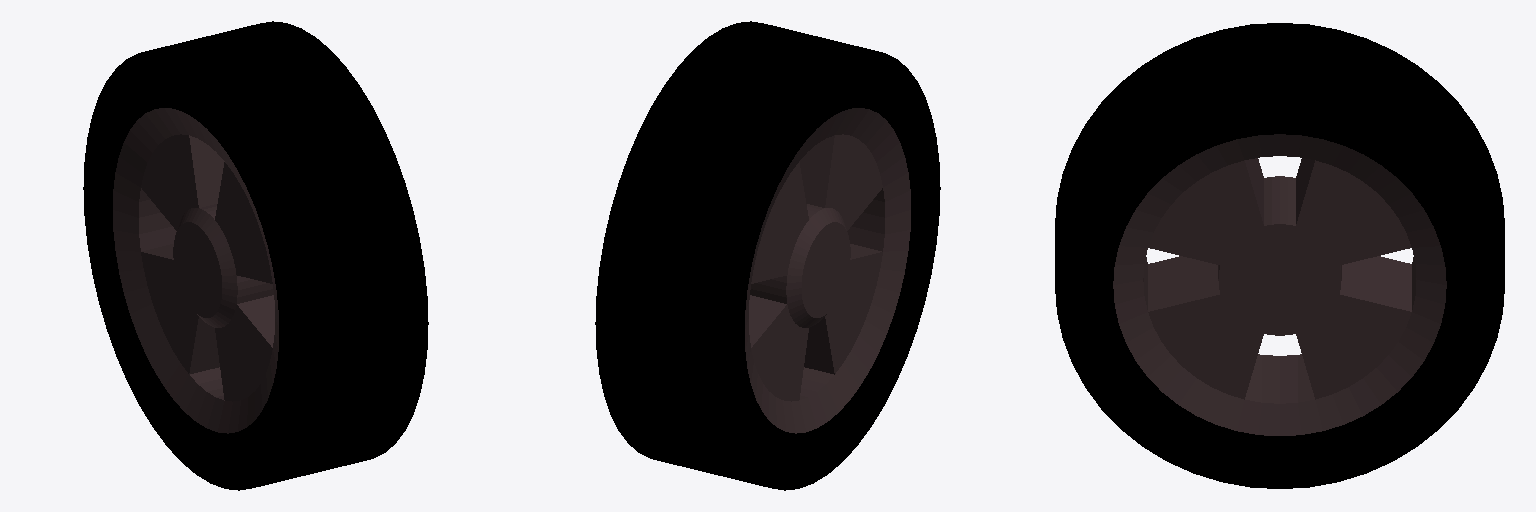
File: cricket_mk2_wheel_right.obj
3 views of the same model, side by side, from view 1: azimuth 30°, elevation 25°; view 2: azimuth 150°, elevation 25°; view 3: azimuth 270°, elevation 25° (orthographic).
Parts seen in each view (by area): view 1: Wheel_FR.001; view 2: Wheel_FR.001; view 3: Wheel_FR.001.
Boxes of the visible parts, box(x1,y1,x2,y2) form: Wheel_FR.001: box(83, 21, 428, 490); Wheel_FR.001: box(595, 21, 940, 490); Wheel_FR.001: box(1055, 23, 1504, 488).
Size of the model in its own units: 0.1782 by 0.5791 by 0.5791.